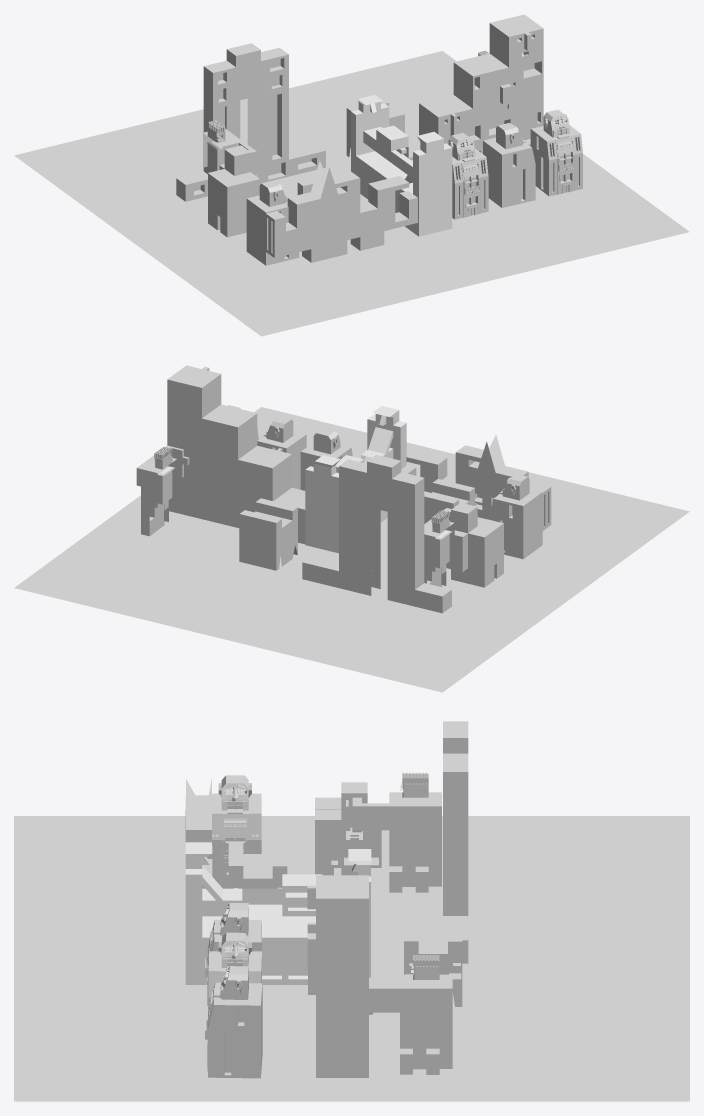
Rendered from ville.glb.
The picture shows the model from 3 angles, top to bottom: view 1: azimuth 30°, elevation 25°; view 2: azimuth 150°, elevation 25°; view 3: azimuth 270°, elevation 25°; orthographic projection. The views are drawn at different scales.
Visible parts, largest first — view 1: Plane; view 2: Plane; view 3: Plane.
Boxes of the visible parts, x1,y1,x2,y2 form: Plane: (14, 14, 689, 336); Plane: (14, 365, 689, 692); Plane: (14, 721, 689, 1101).
Size of the model in its own units: 25.6 by 7.64 by 25.6.
Materials: 12 (1 with a texture image).
